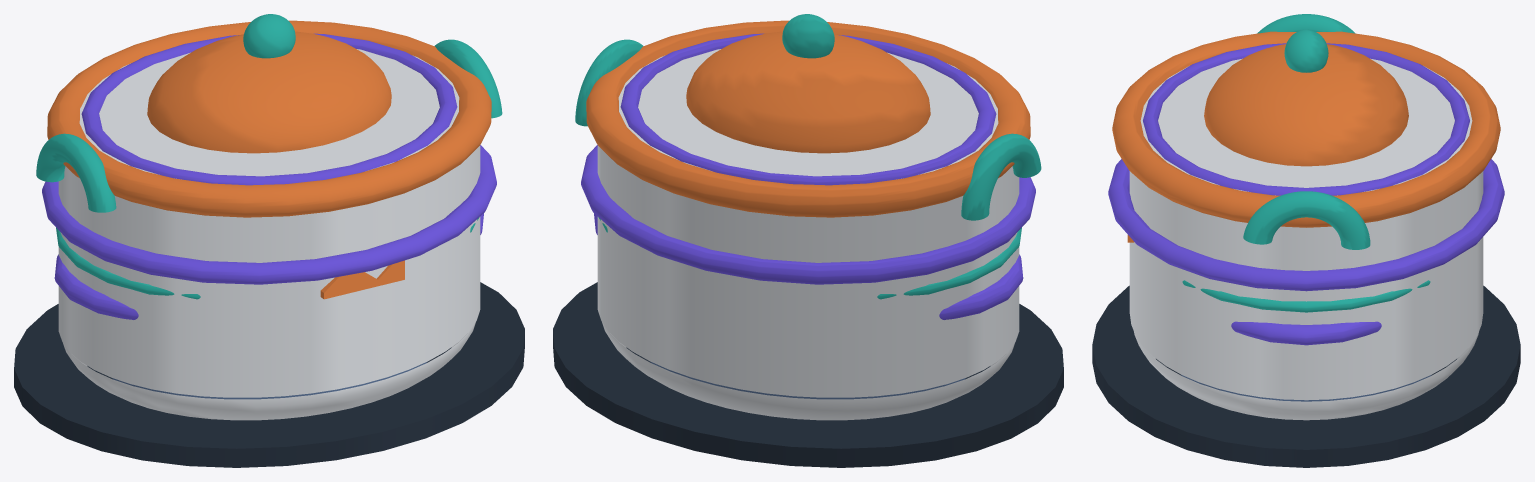
Rendered from 0594_考古图鉴_二里头陶片.glb.
3 views of the same model, side by side, from view 1: azimuth 30°, elevation 25°; view 2: azimuth 150°, elevation 25°; view 3: azimuth 270°, elevation 25° (orthographic). The views are drawn at different scales.
Parts seen in each view (by area): view 1: card_0594; view 2: card_0594; view 3: card_0594.
Boxes of the visible parts, x1,y1,x2,y2 form: card_0594: (14,14,524,467); card_0594: (553,14,1063,467); card_0594: (1092,14,1520,467).
Size of the model in its own units: 1.31 by 1 by 1.13.
